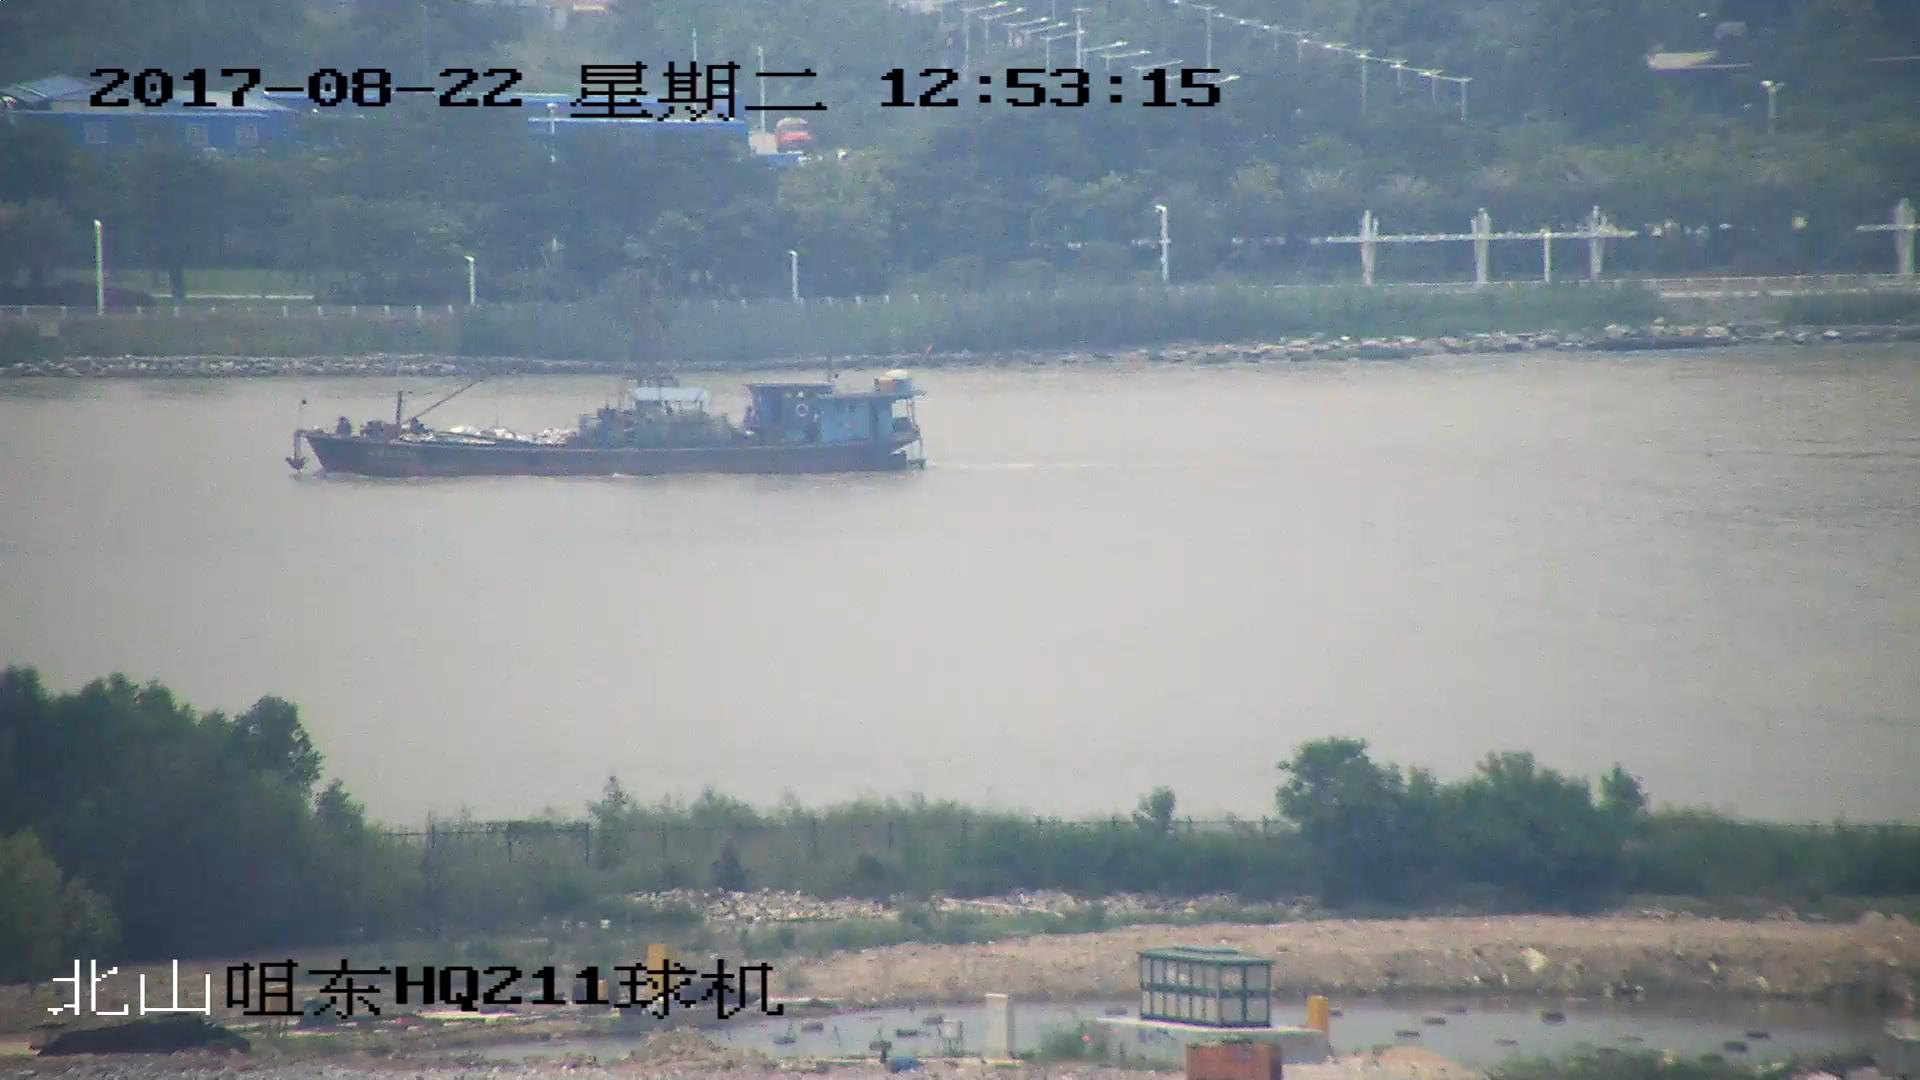fishing boat: (278, 296, 923, 486)
